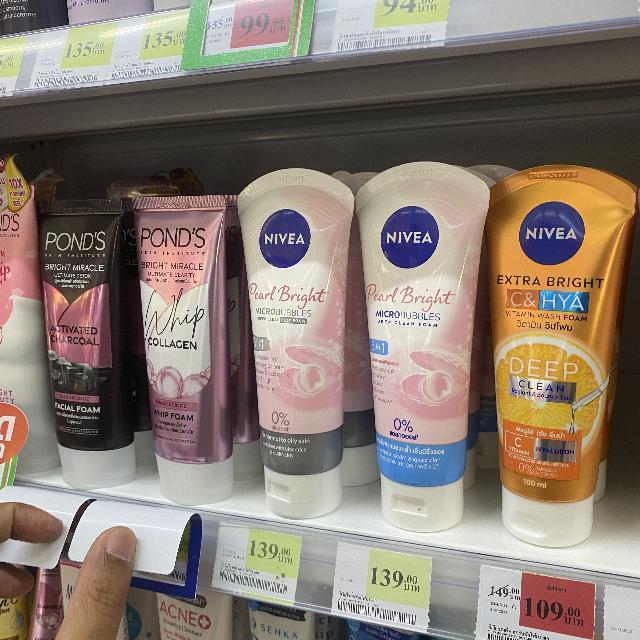Squeeze Tube: (0, 132, 640, 566)
